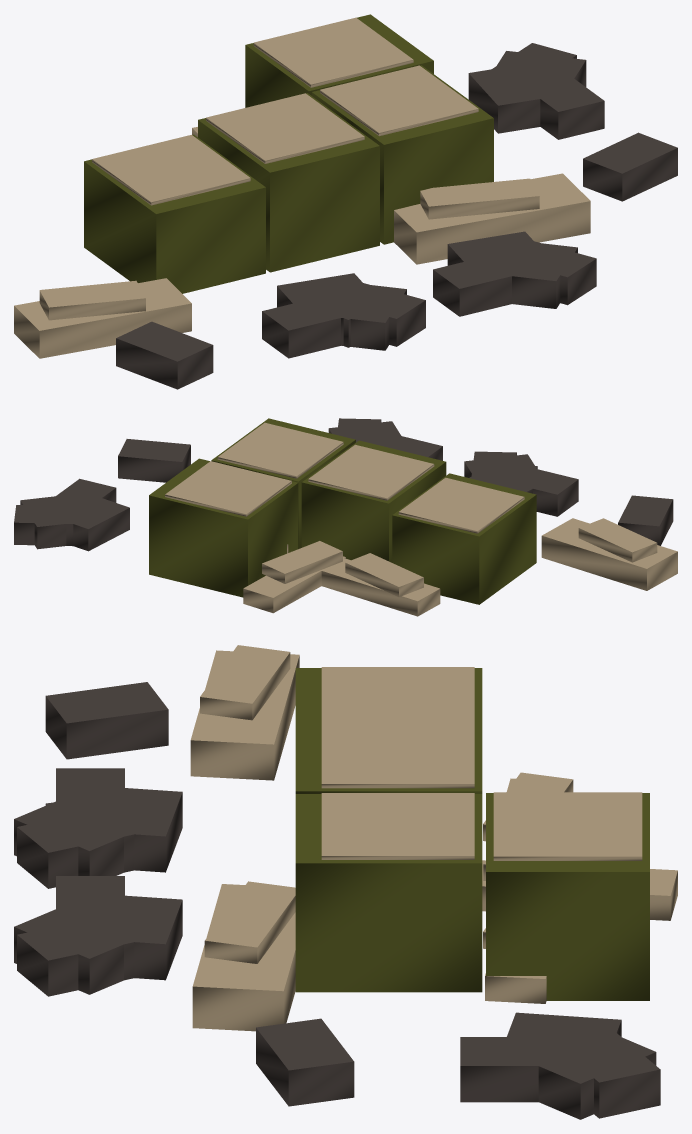
The model's file is SM_HescoRemateEspejo_v1_Geotextil_e2_MuyDanado_LOD1.fbx.
3 renders of one model, top to bottom at view 1: azimuth 30°, elevation 25°; view 2: azimuth 150°, elevation 25°; view 3: azimuth 270°, elevation 25°, orthographic. The views are drawn at different scales.
Parts seen in each view (by area): view 1: SM_hesco_piezas_v26_LOD1; view 2: SM_hesco_piezas_v26_LOD1; view 3: SM_hesco_piezas_v26_LOD1.
Part boxes in pixels (x1,y1,x2,y2): SM_hesco_piezas_v26_LOD1: [14, 14, 677, 389]; SM_hesco_piezas_v26_LOD1: [14, 418, 677, 616]; SM_hesco_piezas_v26_LOD1: [14, 645, 677, 1119].
Size of the model in its own units: 6.71 by 0.9603 by 4.34.
